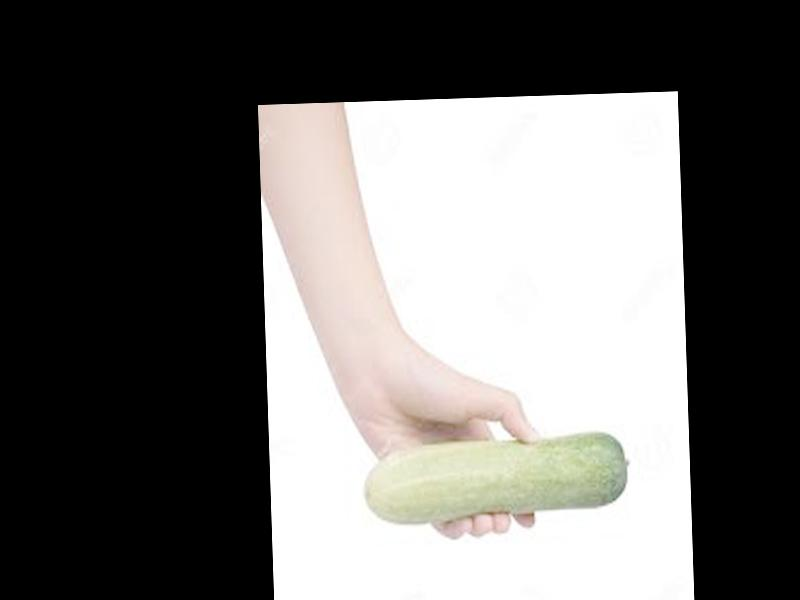Cucumber: (360, 426, 632, 523)
